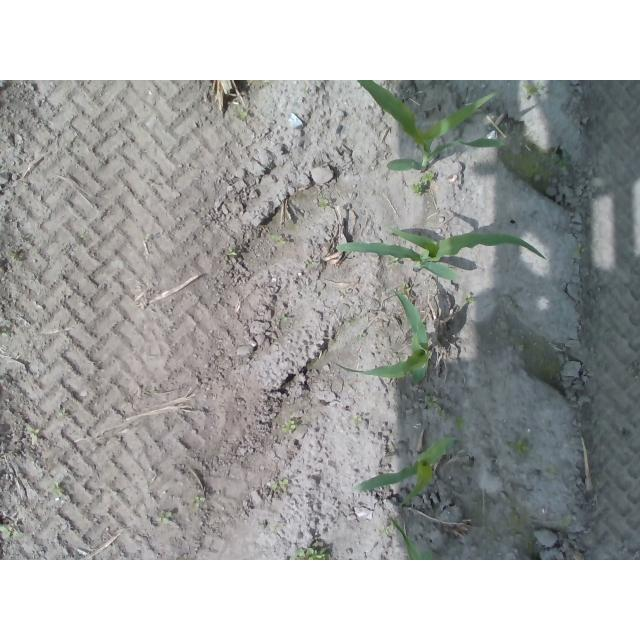Maize: (355, 80, 510, 173), (335, 224, 547, 281), (330, 284, 431, 383), (351, 436, 456, 505), (386, 513, 434, 560)
Weeds: (289, 545, 327, 560), (411, 170, 434, 194), (424, 396, 445, 417), (509, 440, 529, 457), (271, 478, 289, 492), (191, 494, 206, 509), (453, 415, 467, 431), (157, 512, 172, 525), (50, 481, 62, 497), (508, 532, 524, 544), (281, 420, 296, 432), (0, 524, 14, 536), (525, 84, 539, 96), (272, 235, 287, 246), (486, 527, 498, 538), (545, 465, 557, 476), (29, 427, 38, 441), (226, 248, 239, 256), (320, 199, 329, 209), (239, 111, 247, 121), (352, 416, 362, 424), (388, 257, 399, 264), (464, 296, 472, 305), (405, 286, 412, 292)
